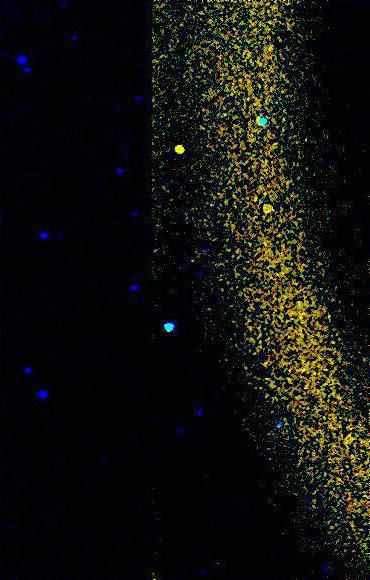star: (255, 194, 285, 224)
